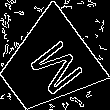M_SW: (15, 32, 80, 99)
